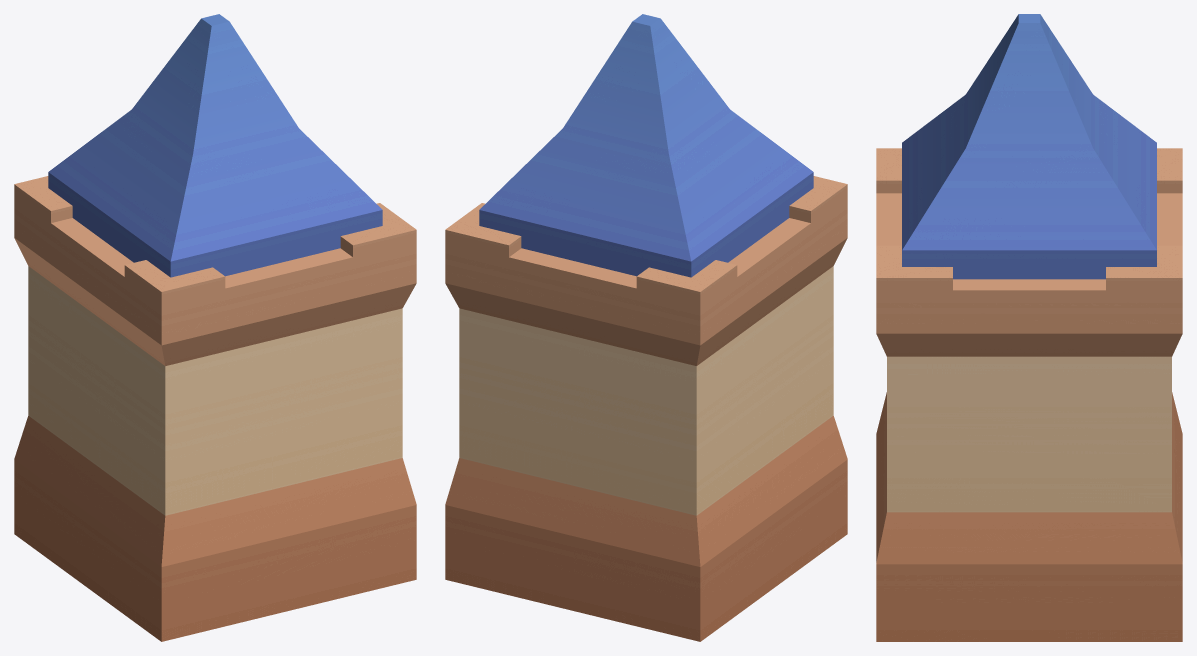
File: tower-square-roof.glb
3 views of the same model, side by side, from view 1: azimuth 30°, elevation 25°; view 2: azimuth 150°, elevation 25°; view 3: azimuth 270°, elevation 25° (orthographic). The views are drawn at different scales.
Parts seen in each view (by area): view 1: tower-square-roof; view 2: tower-square-roof; view 3: tower-square-roof.
Part boxes in pixels (bbox=[...]): tower-square-roof: bbox=[14, 14, 416, 641]; tower-square-roof: bbox=[445, 14, 847, 641]; tower-square-roof: bbox=[876, 14, 1182, 641].
Bounding box in the file's own units: 1 × 2.01 × 1.
Materials: 1 (1 with a texture image).
